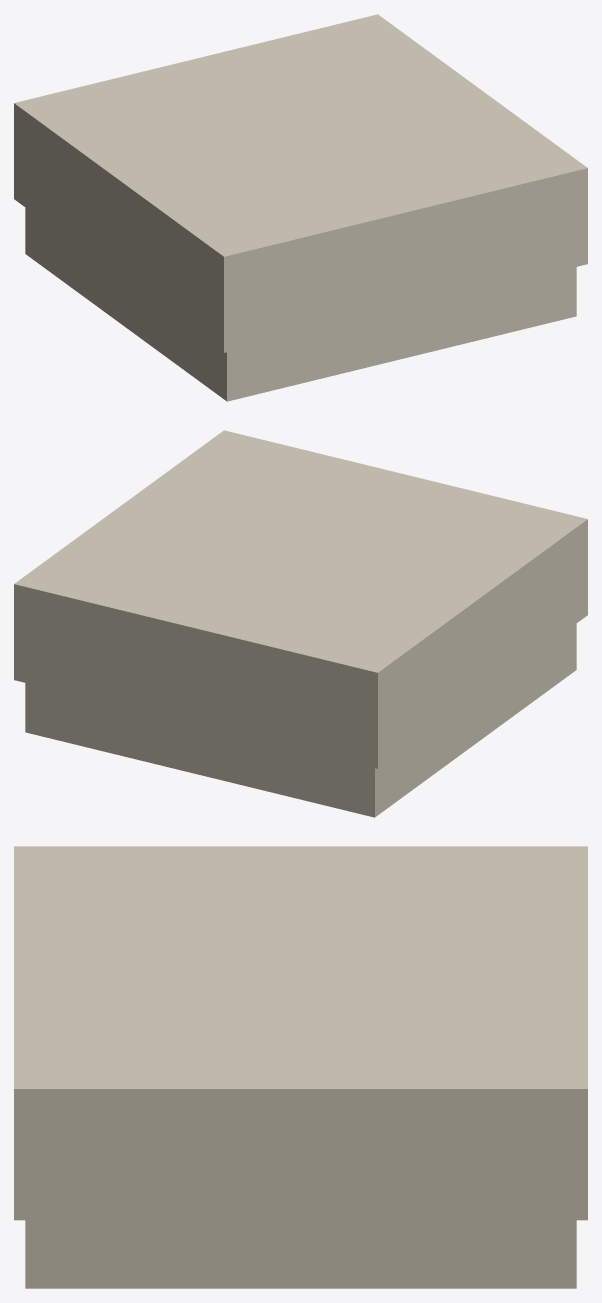
File: Paper_Box.001.fbx
3 renders of one model, top to bottom at view 1: azimuth 30°, elevation 25°; view 2: azimuth 150°, elevation 25°; view 3: azimuth 270°, elevation 25°, orthographic. The views are drawn at different scales.
Parts seen in each view (by area): view 1: Paper_Box.001; view 2: Paper_Box.001; view 3: Paper_Box.001.
Part boxes in pixels (x1=…): Paper_Box.001: x1=14, y1=14, x2=587, y2=401; Paper_Box.001: x1=14, y1=430, x2=587, y2=817; Paper_Box.001: x1=14, y1=846, x2=587, y2=1288.
Size of the model in its own units: 24.1 by 9.47 by 24.1.
